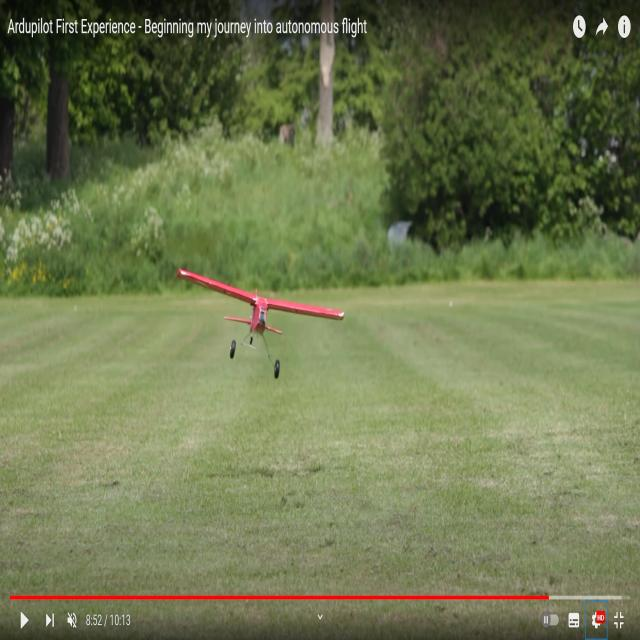iha: (173, 293, 339, 341)
